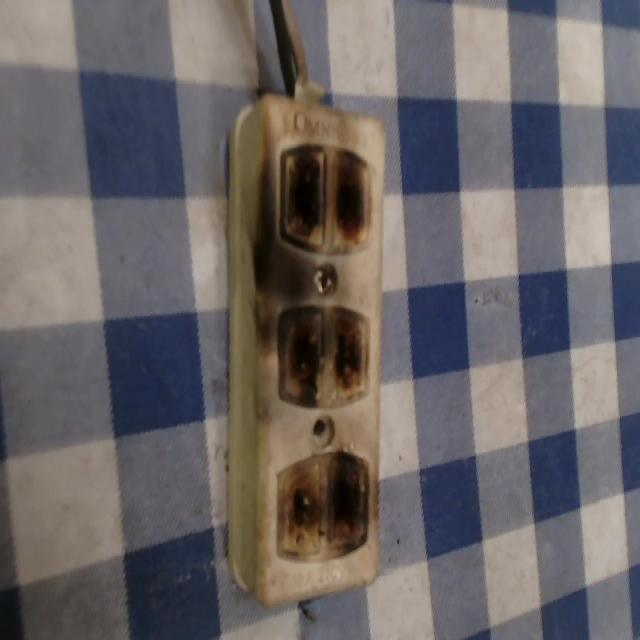-: (277, 139, 374, 256), (274, 448, 372, 563), (275, 300, 371, 405)
